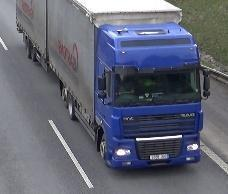truck: (15, 0, 210, 170)
